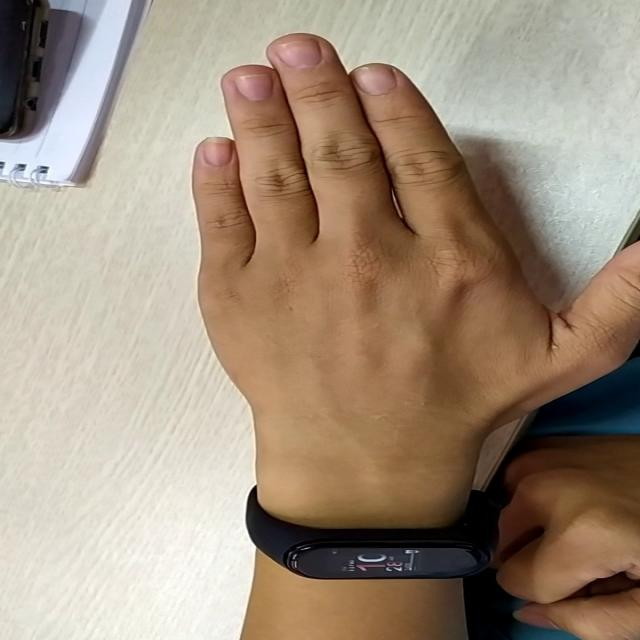hand: (165, 28, 637, 442)
